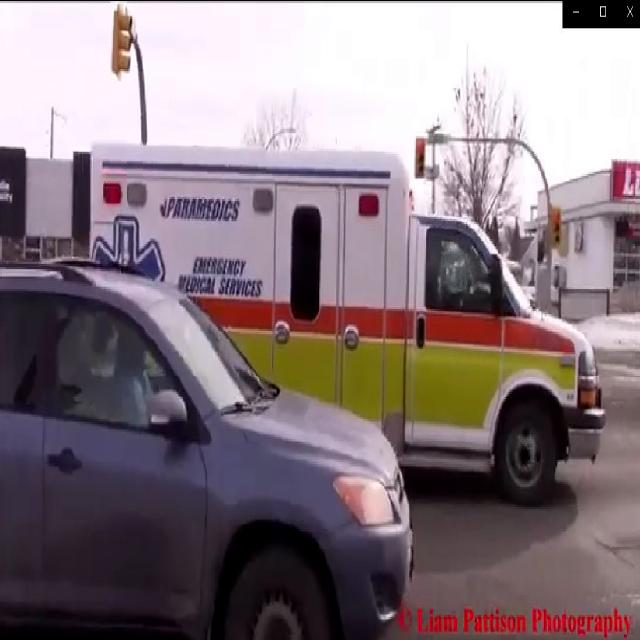emergency: (82, 133, 612, 515)
